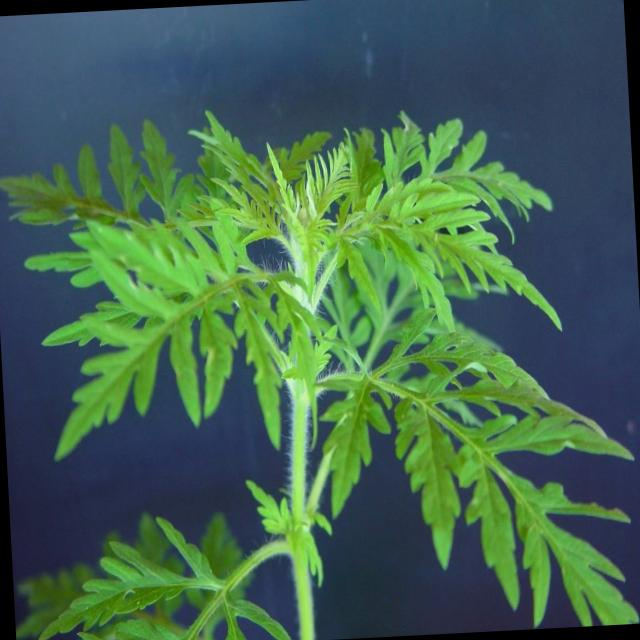ambrosia: (54, 99, 548, 512)
